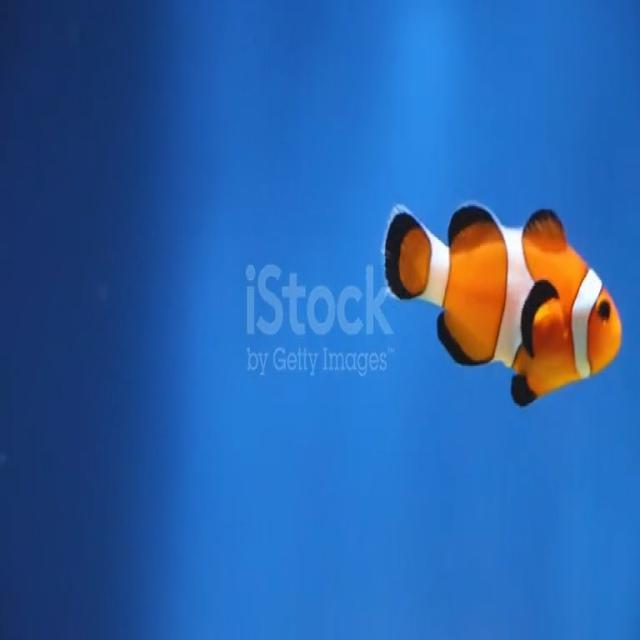fish: (385, 188, 624, 410)
